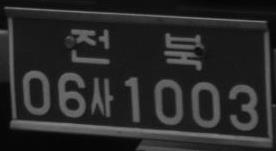0: (153, 77, 184, 126), (190, 81, 221, 129), (21, 69, 50, 116)
1: (121, 75, 146, 123)
3: (228, 82, 259, 132)
6: (57, 71, 86, 118)
사: (90, 76, 114, 118)
전북_D: (70, 27, 203, 71)
